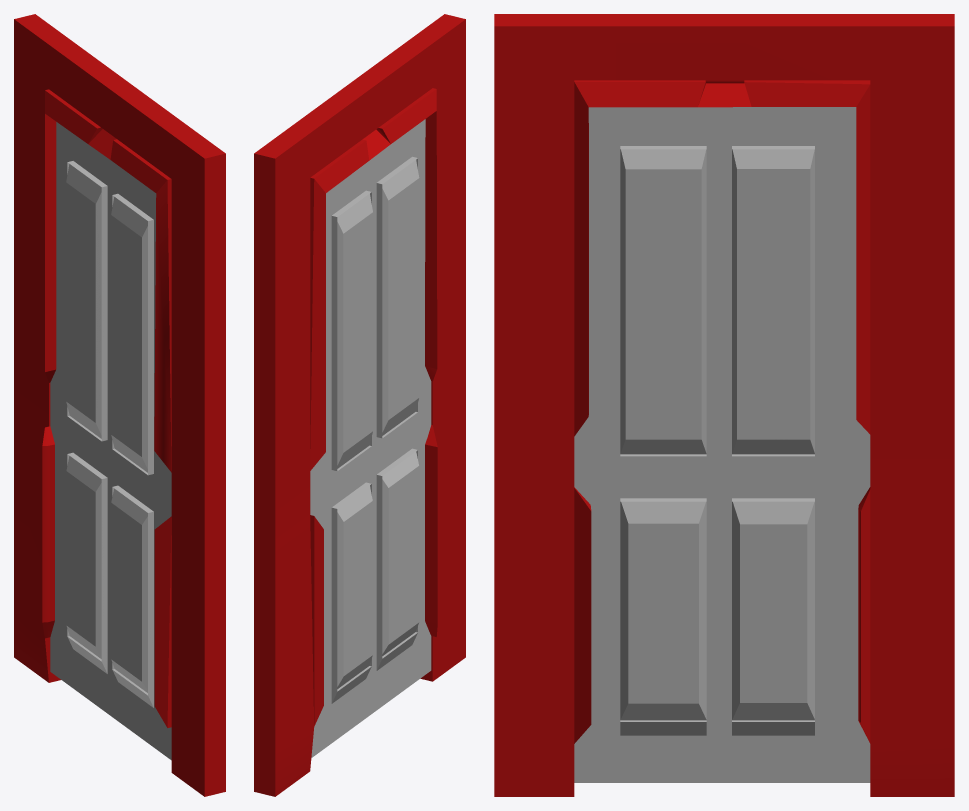
File: door.fbx
The picture shows the model from 3 angles, left to right: view 1: azimuth 30°, elevation 25°; view 2: azimuth 150°, elevation 25°; view 3: azimuth 270°, elevation 25°; orthographic projection. The views are drawn at different scales.
Parts seen in each view (by area): view 1: pasted__pCube1, pCube1; view 2: pasted__pCube1, pCube1; view 3: pCube1, pasted__pCube1.
Boxes of the visible parts, x1,y1,x2,y2 form: pasted__pCube1: (14, 14, 225, 796); pCube1: (50, 122, 171, 760); pasted__pCube1: (254, 14, 465, 796); pCube1: (310, 119, 431, 757); pCube1: (574, 107, 870, 782); pasted__pCube1: (494, 14, 954, 796).
Bounding box in the file's own units: 0.8329 × 12.06 × 6.53.
